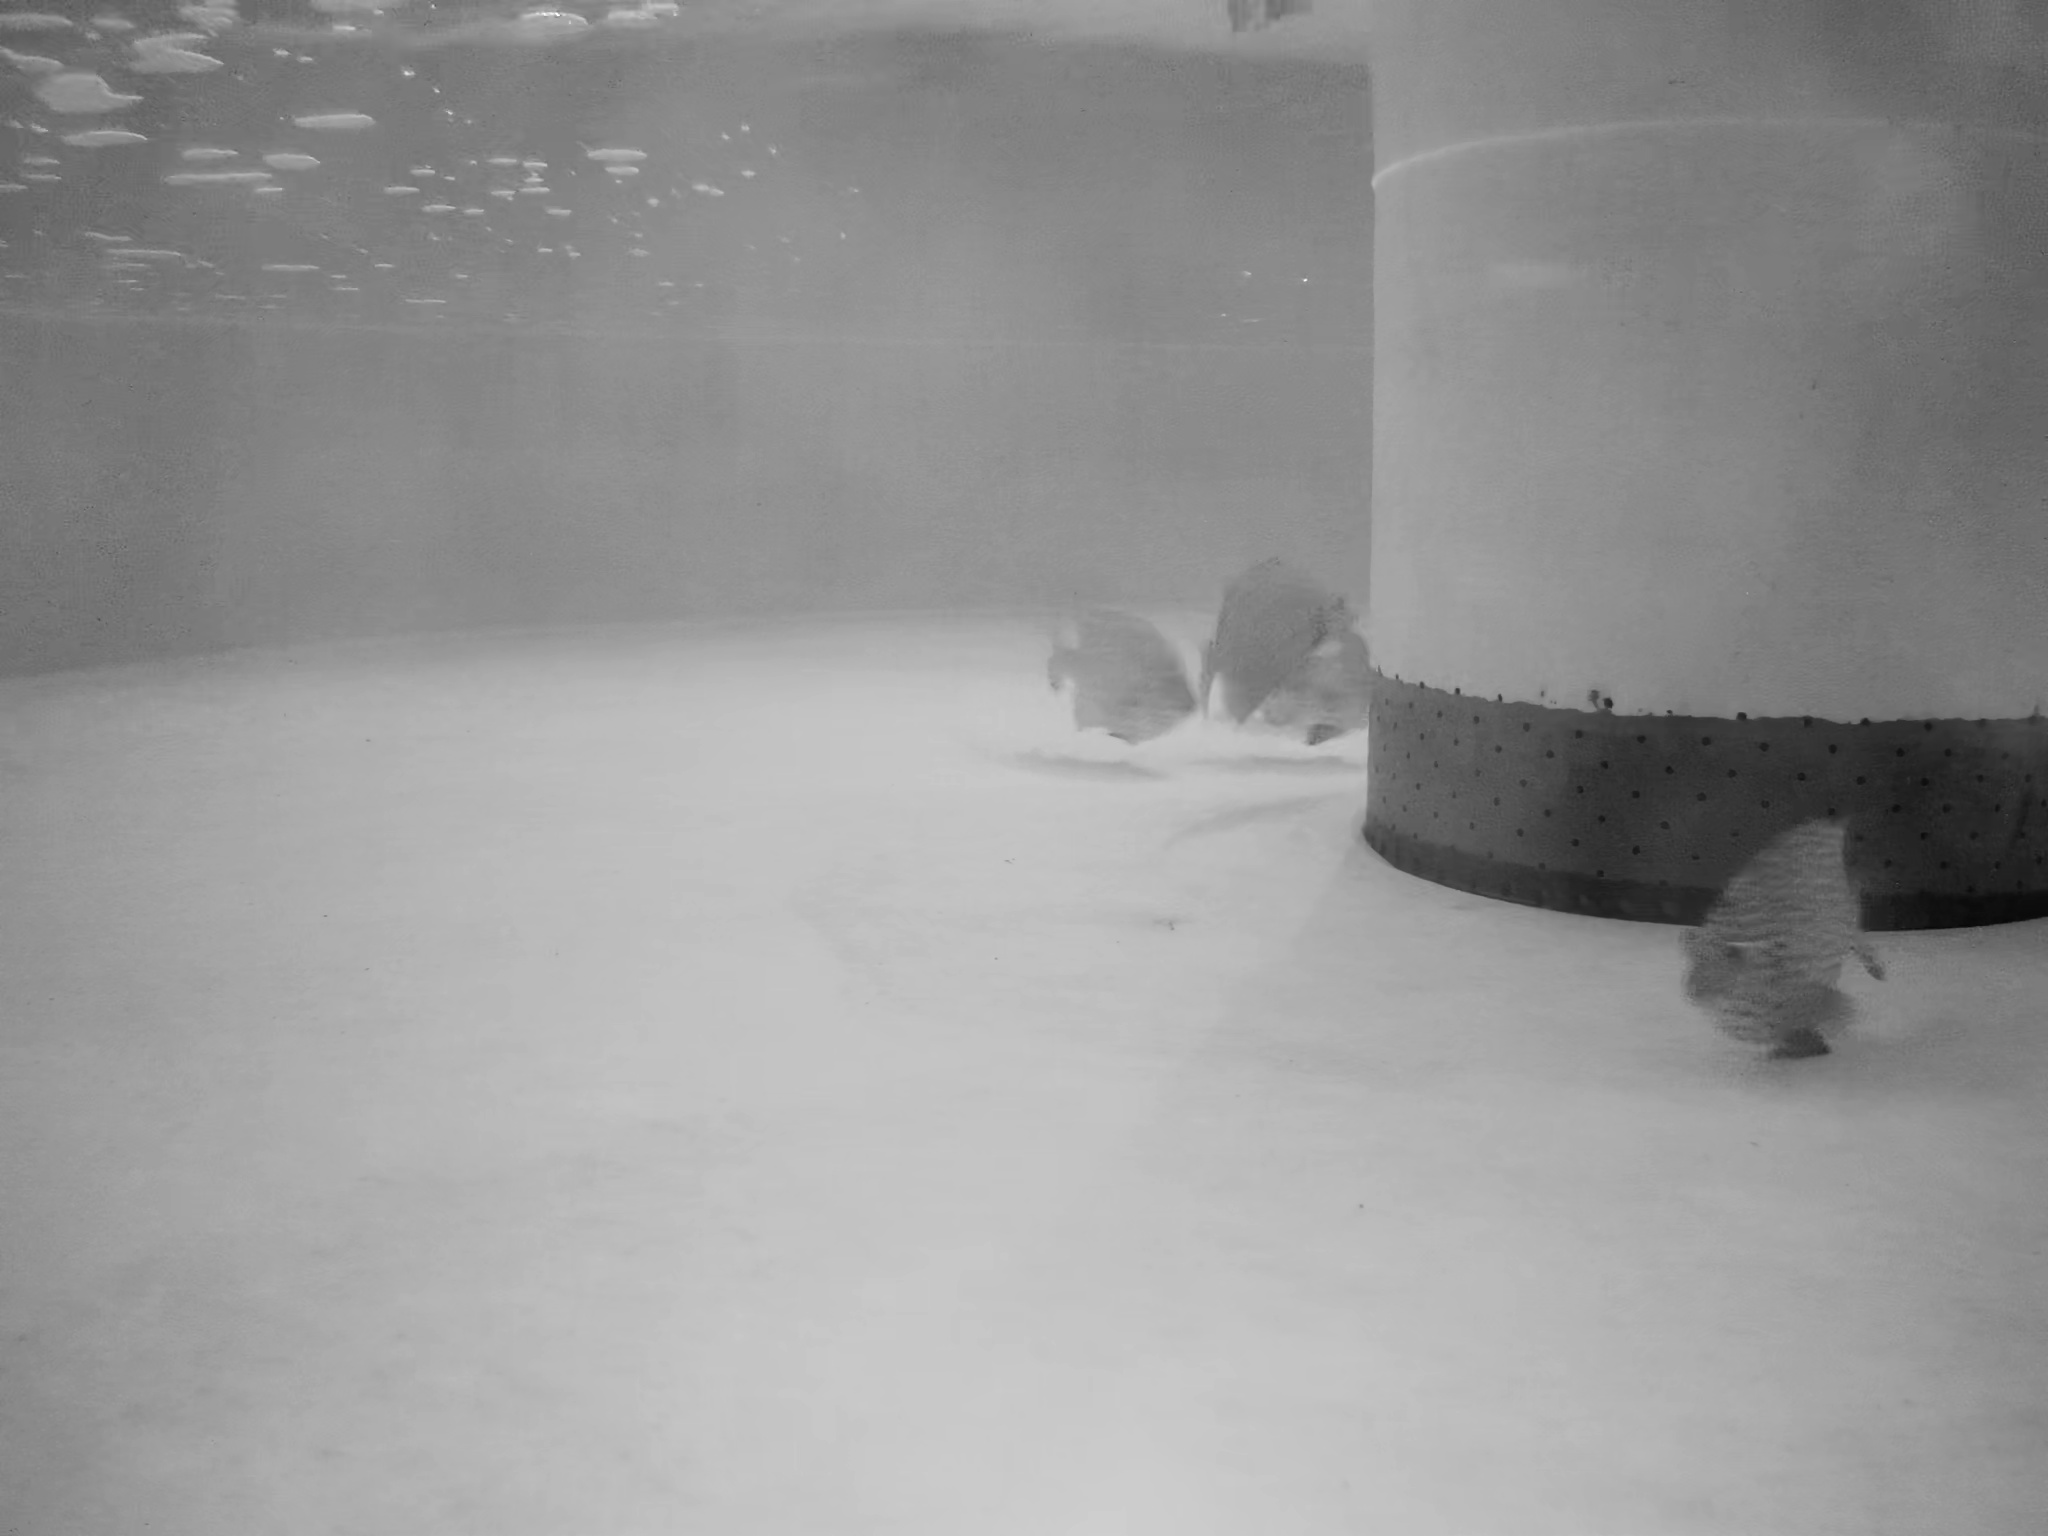fish: (1674, 800, 1892, 1063), (1198, 545, 1367, 726), (1050, 589, 1200, 747), (1279, 639, 1376, 747)
